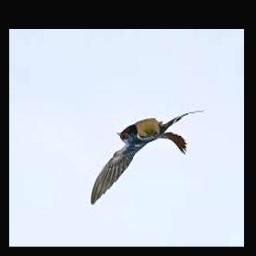Swallow: (90, 109, 204, 207)
